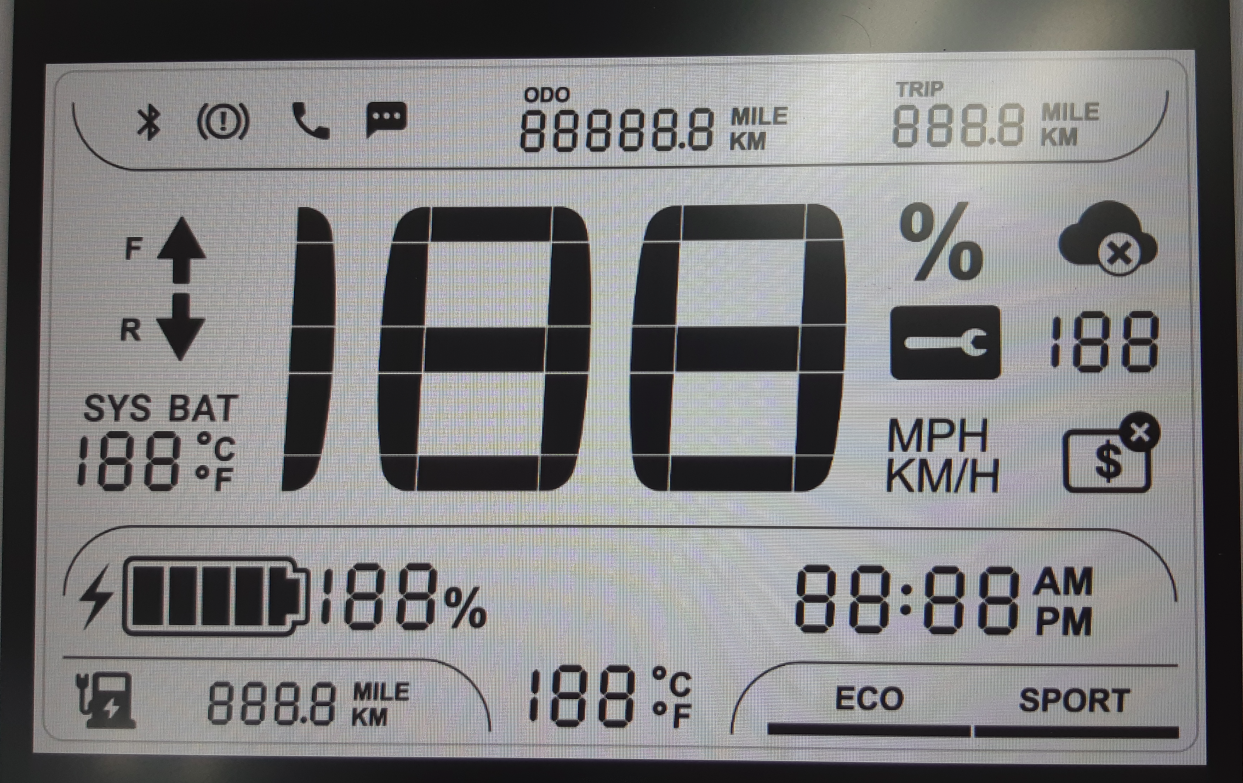bluetooth_on: (130, 98, 168, 145)
braking_on: (190, 96, 253, 147)
calling_on: (286, 97, 337, 144)
connection_lost: (1052, 197, 1162, 281)
error_code: (886, 302, 1005, 384)
low_battery: (71, 665, 144, 733)
sms_on: (361, 97, 412, 143)
vin_id: (1060, 409, 1163, 497)
